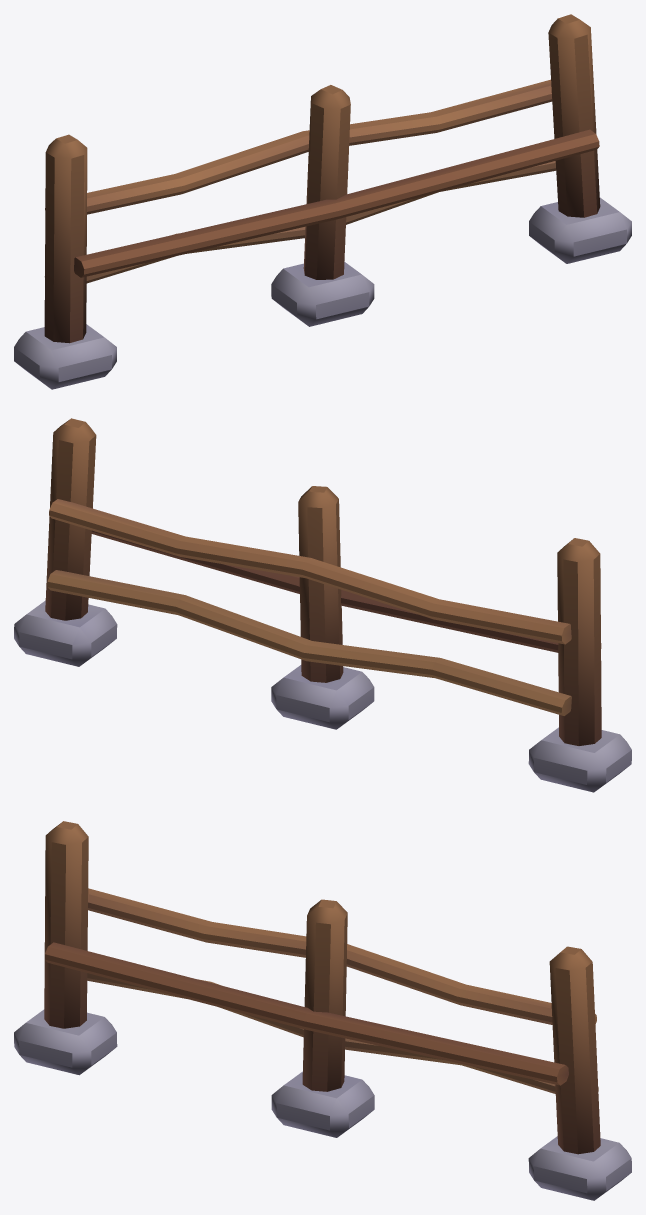
File: common_town_fence_b.glb
3 views of the same model, one above another, from view 1: azimuth 30°, elevation 25°; view 2: azimuth 150°, elevation 25°; view 3: azimuth 330°, elevation 25° (orthographic).
Parts seen in each view (by area): view 1: common_town_fence_b; view 2: common_town_fence_b; view 3: common_town_fence_b.
Boxes of the visible parts, x1=… form: common_town_fence_b: x1=14, y1=14, x2=631, y2=389; common_town_fence_b: x1=14, y1=418, x2=631, y2=792; common_town_fence_b: x1=14, y1=821, x2=631, y2=1200.
Bounding box in the file's own units: 3.45 × 1.3 × 0.4362.
